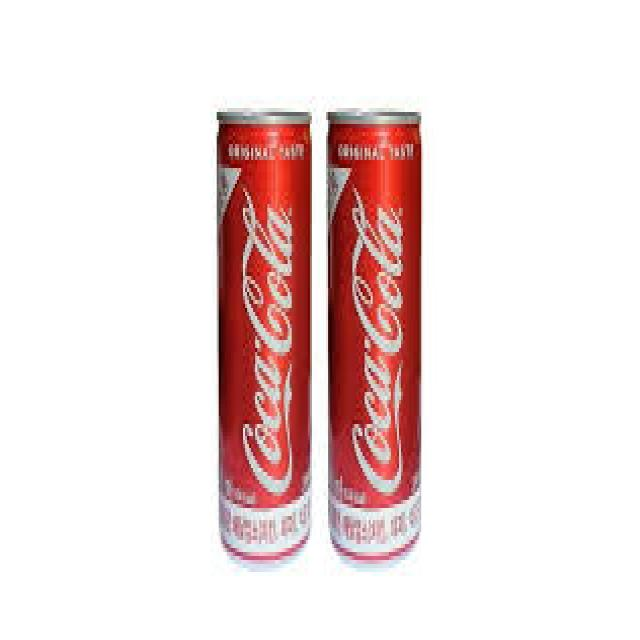Coca-Cola: (209, 100, 318, 578), (322, 96, 426, 574)
